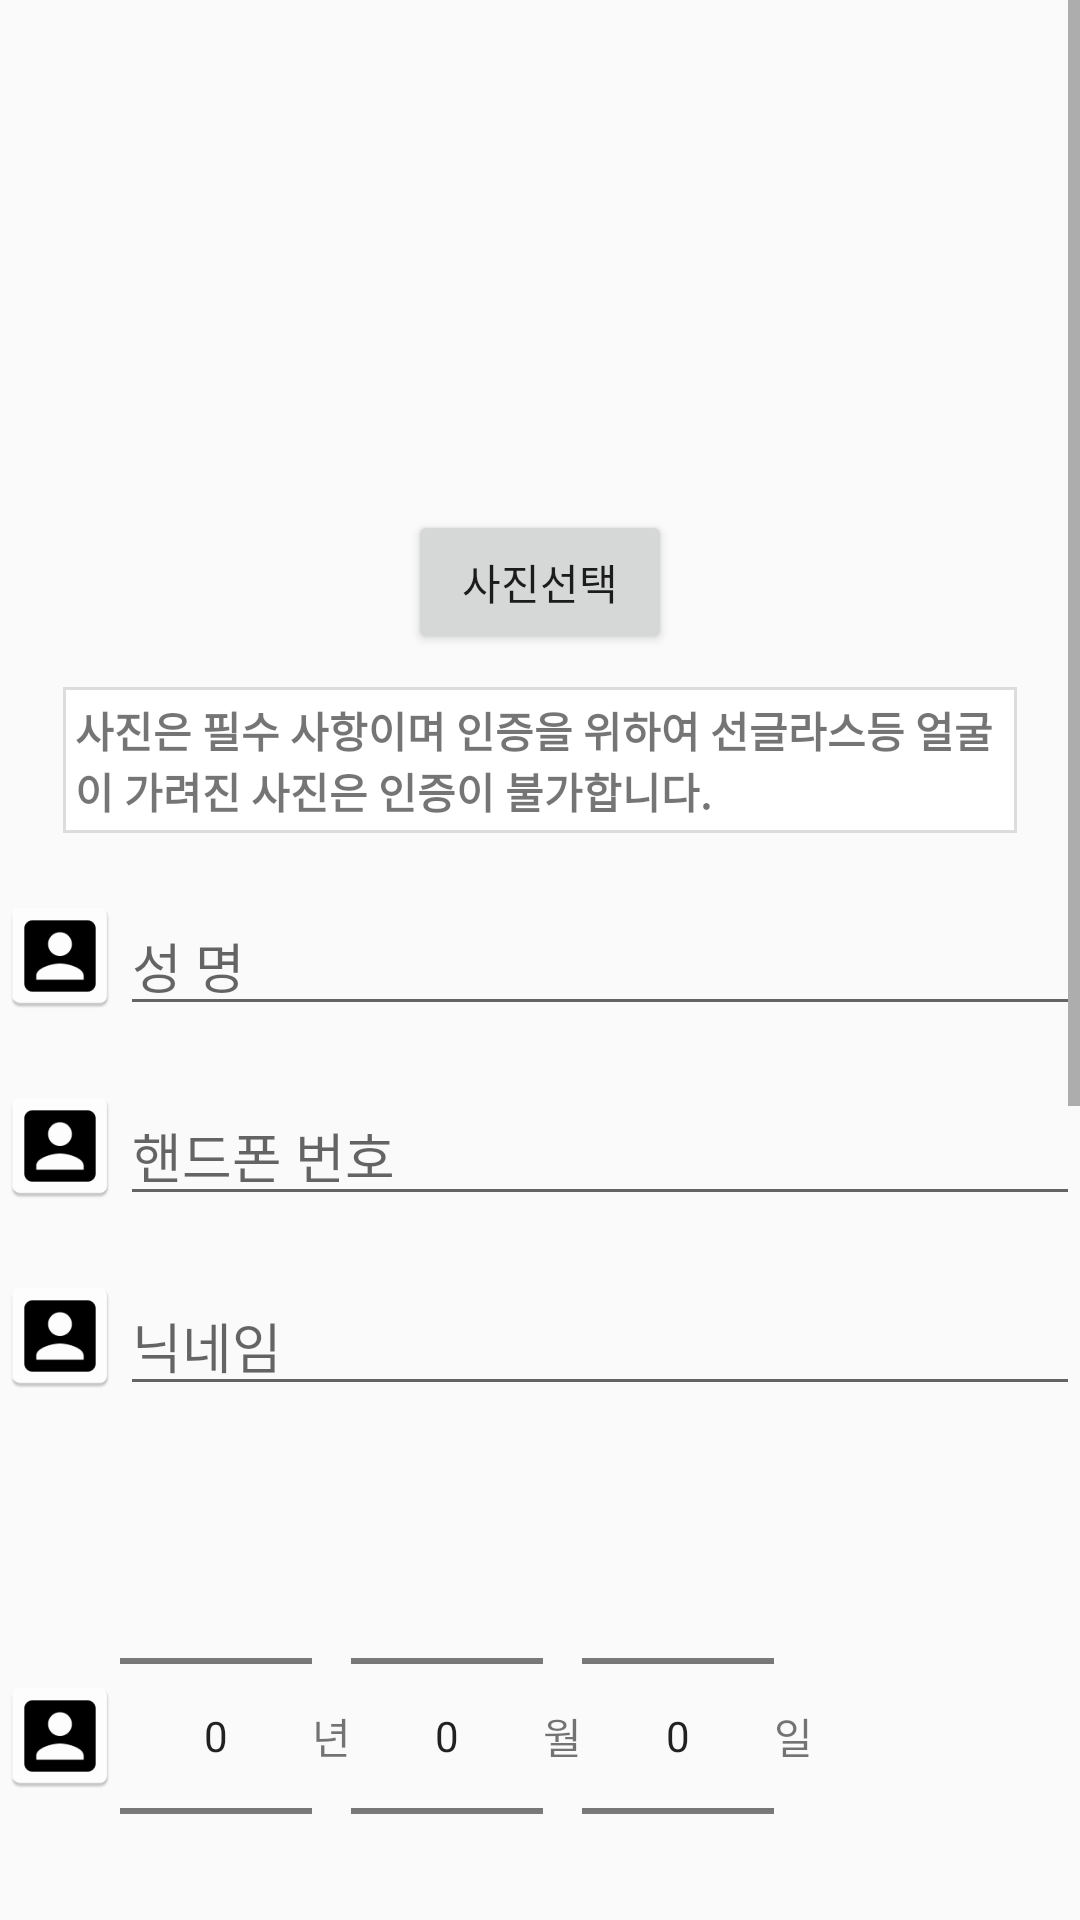

Where to tap for icons on this 1080 x 1920 app screen, as [x,y]:
profile: [60,962], [60,1151], [60,1342], [60,1742]
